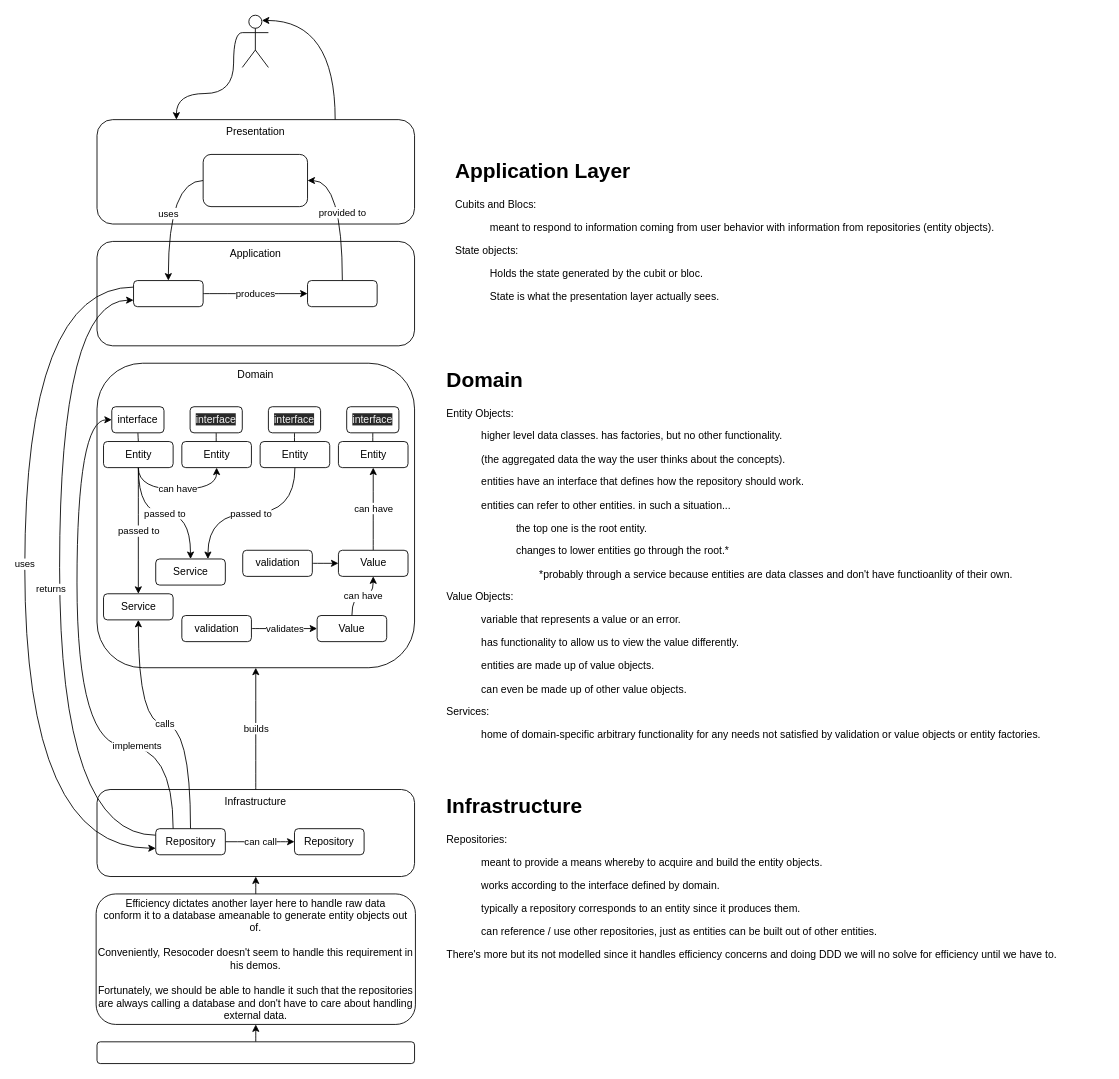
Image size: 1119x1079. Some labels were removed from this diagram. Each missing label, with the centre of its shape:
"BlocProvider BlocConsumer etc." goes at (x=255, y=180).
"Cubit" goes at (x=168, y=293).
"CubitState" goes at (x=342, y=293).
"External" goes at (x=255, y=1052).
"User" goes at (x=254, y=40).
